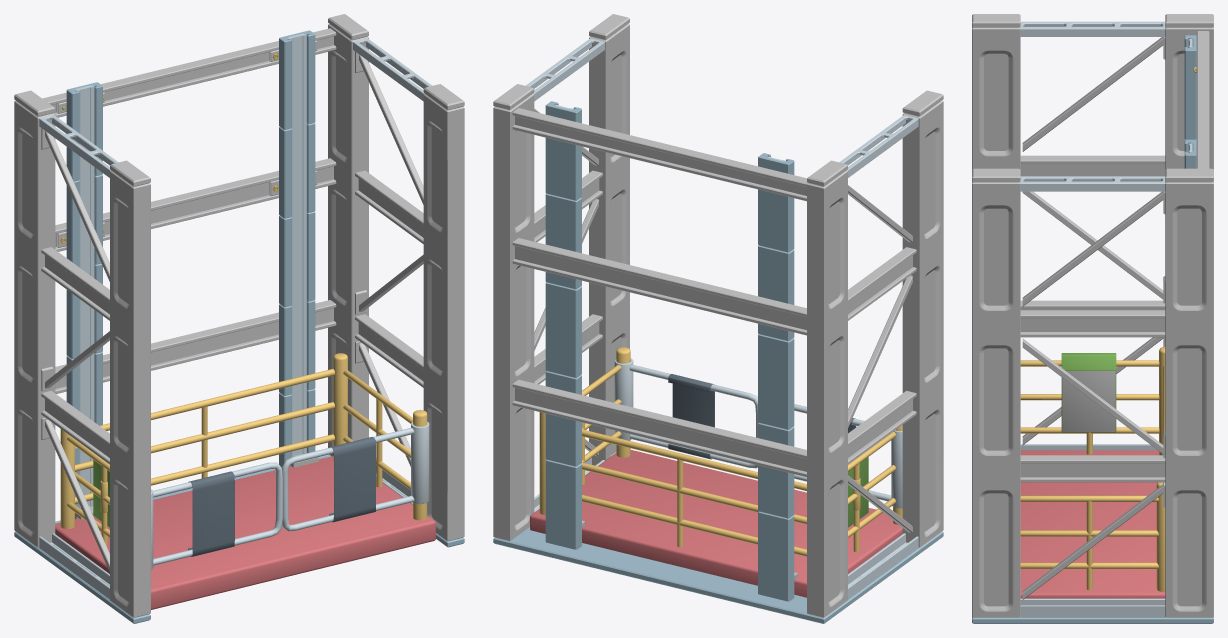
Rendered from SWAT_Elevator_02_001.gltf.
3 views of the same model, side by side, from view 1: azimuth 30°, elevation 25°; view 2: azimuth 150°, elevation 25°; view 3: azimuth 270°, elevation 25° (orthographic).
Visible parts, largest first — view 1: SWAT_Elevator_02_001(Clone), Cylinder.019, Cylinder.013, Cylinder.001; view 2: SWAT_Elevator_02_001(Clone), Cylinder.019, Cylinder.013, Cylinder.001; view 3: SWAT_Elevator_02_001(Clone), Cylinder.019.
Part boxes in pixels (left/top/right/bottom): SWAT_Elevator_02_001(Clone): left=14, top=14, right=464, bottom=623; Cylinder.019: left=55, top=353, right=435, bottom=609; Cylinder.013: left=282, top=421, right=429, bottom=531; Cylinder.001: left=151, top=462, right=282, bottom=569; SWAT_Elevator_02_001(Clone): left=493, top=14, right=943, bottom=623; Cylinder.019: left=530, top=347, right=902, bottom=597; Cylinder.013: left=614, top=358, right=758, bottom=468; Cylinder.001: left=794, top=404, right=902, bottom=508; SWAT_Elevator_02_001(Clone): left=972, top=14, right=1213, bottom=623; Cylinder.019: left=1020, top=346, right=1165, bottom=598.
Bounding box in the file's own units: 3.35 × 4.32 × 2.1.
